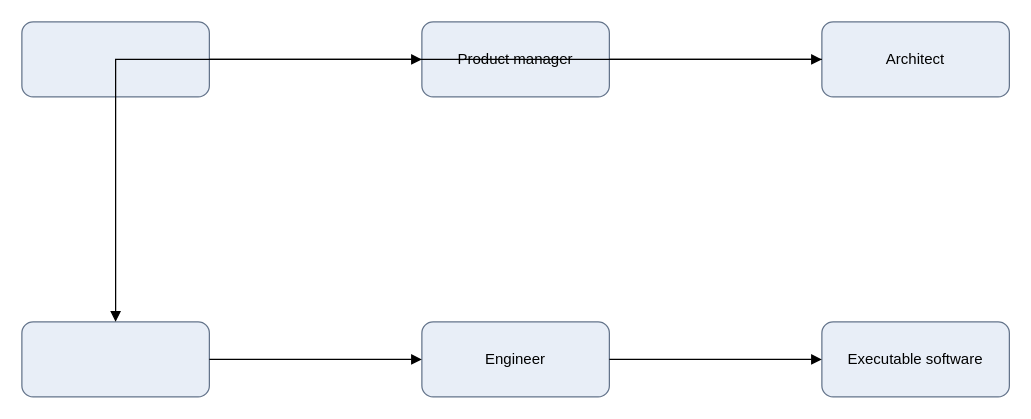
This 1031x419 diagram has some shape labels left out. Here are the shapes that lost their labels. From the top down, the centre of each, then its label:
(x=115, y=59): User requirement
(x=115, y=359): Project manager
